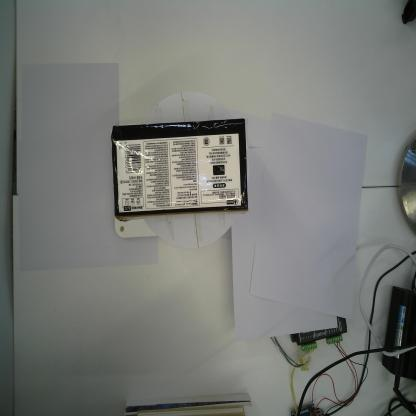Tissue: (111, 118, 249, 220)
